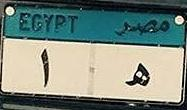1: (36, 47, 54, 89)
haa: (124, 59, 151, 91)
